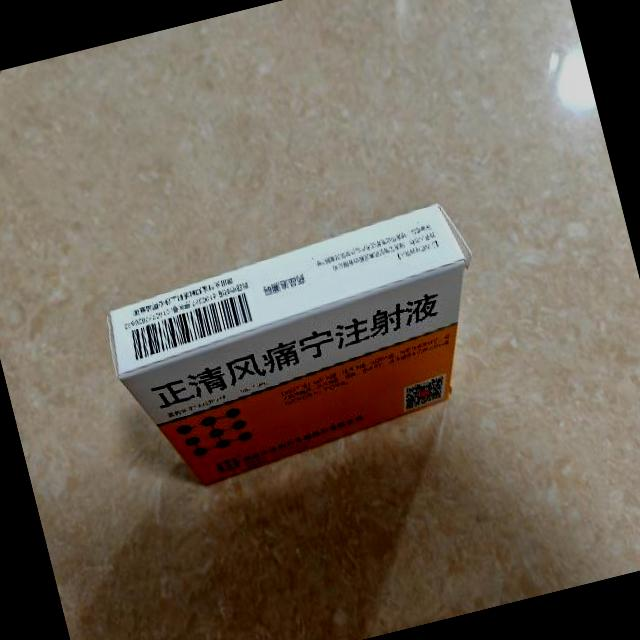box: (93, 198, 510, 501)
